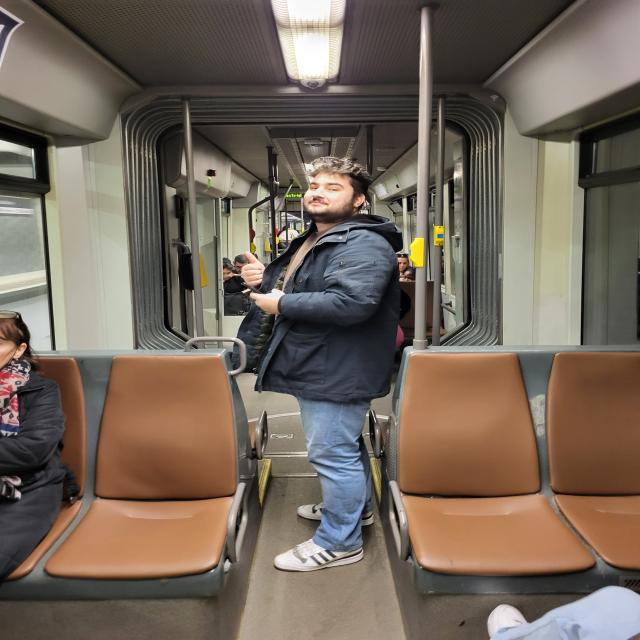empty-seat-frontal: (49, 343, 241, 600), (403, 344, 591, 579), (545, 344, 640, 577)
